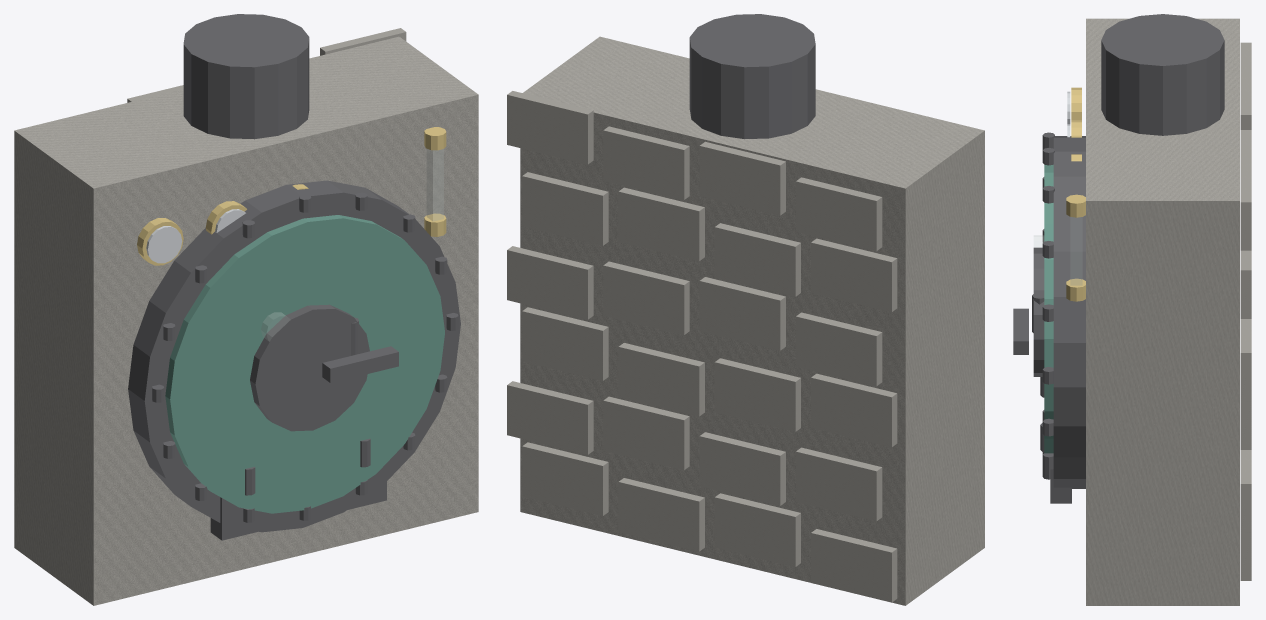
File: distillery-and-bonded-warehouse-boiler-front-02eeae02__38678.glb
The picture shows the model from 3 angles, left to right: view 1: azimuth 30°, elevation 25°; view 2: azimuth 150°, elevation 25°; view 3: azimuth 270°, elevation 25°; orthographic projection. The views are drawn at different scales.
Visible parts, largest first — view 1: boiler-front-stone, boiler-front-iron, boiler-front-paint, boiler-front-brass, boiler-front-glass, boiler-front-steel; view 2: boiler-front-stone, boiler-front-iron; view 3: boiler-front-stone, boiler-front-iron, boiler-front-paint, boiler-front-brass, boiler-front-glass.
Boxes of the visible parts, x1,y1,x2,y2 form: boiler-front-stone: (14, 28, 478, 605); boiler-front-iron: (128, 14, 460, 540); boiler-front-paint: (165, 215, 444, 513); boiler-front-brass: (137, 127, 446, 265); boiler-front-glass: (261, 149, 443, 341); boiler-front-steel: (146, 209, 245, 263); boiler-front-stone: (507, 36, 984, 605); boiler-front-iron: (689, 14, 815, 139); boiler-front-stone: (1086, 18, 1251, 605); boiler-front-iron: (1013, 14, 1224, 503); boiler-front-paint: (1044, 164, 1053, 453); boiler-front-brass: (1066, 87, 1085, 301); boiler-front-glass: (1034, 217, 1082, 285).
Bounding box in the file's own units: 2.85 × 3.4 × 1.55.
6 materials, 1 textured.
